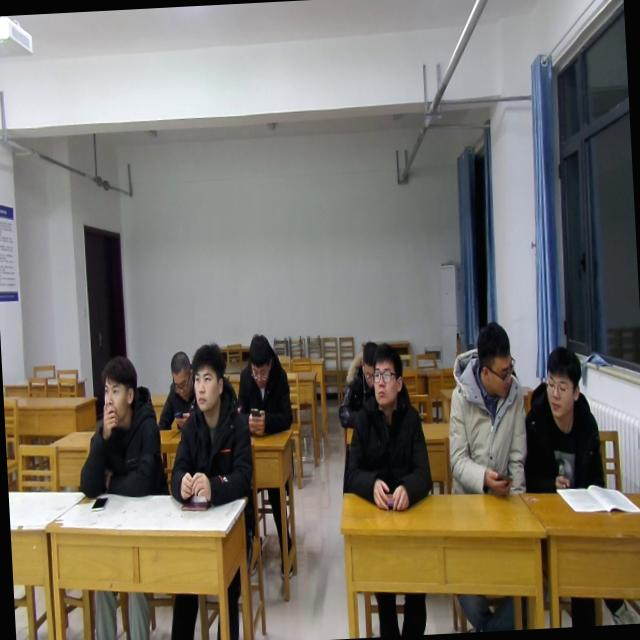bow: (236, 330, 294, 437), (334, 342, 384, 425)
down: (244, 326, 277, 392), (166, 343, 192, 400), (356, 339, 383, 384)
lookup: (95, 351, 144, 426), (540, 342, 584, 424), (186, 340, 230, 415), (366, 342, 404, 404)
sit: (162, 340, 257, 513), (338, 348, 434, 516), (442, 318, 528, 502), (518, 343, 610, 498), (74, 354, 168, 504), (153, 348, 200, 430)
